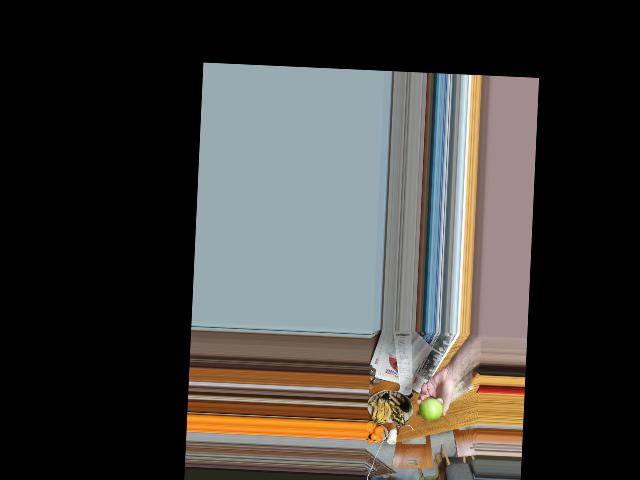apple: (419, 396, 442, 425)
